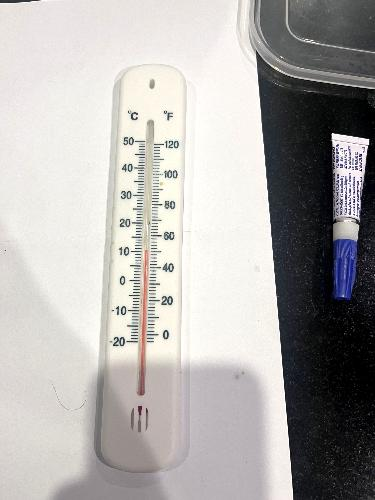thermo: (94, 64, 207, 472)
